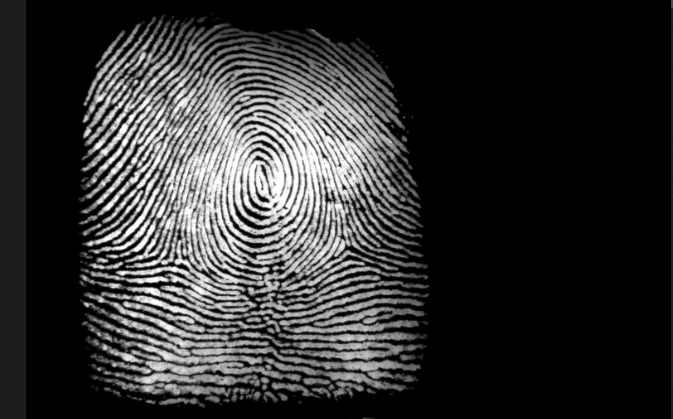deltas: (149, 233, 197, 287), (322, 225, 370, 277)
nucleo: (236, 146, 294, 214)
